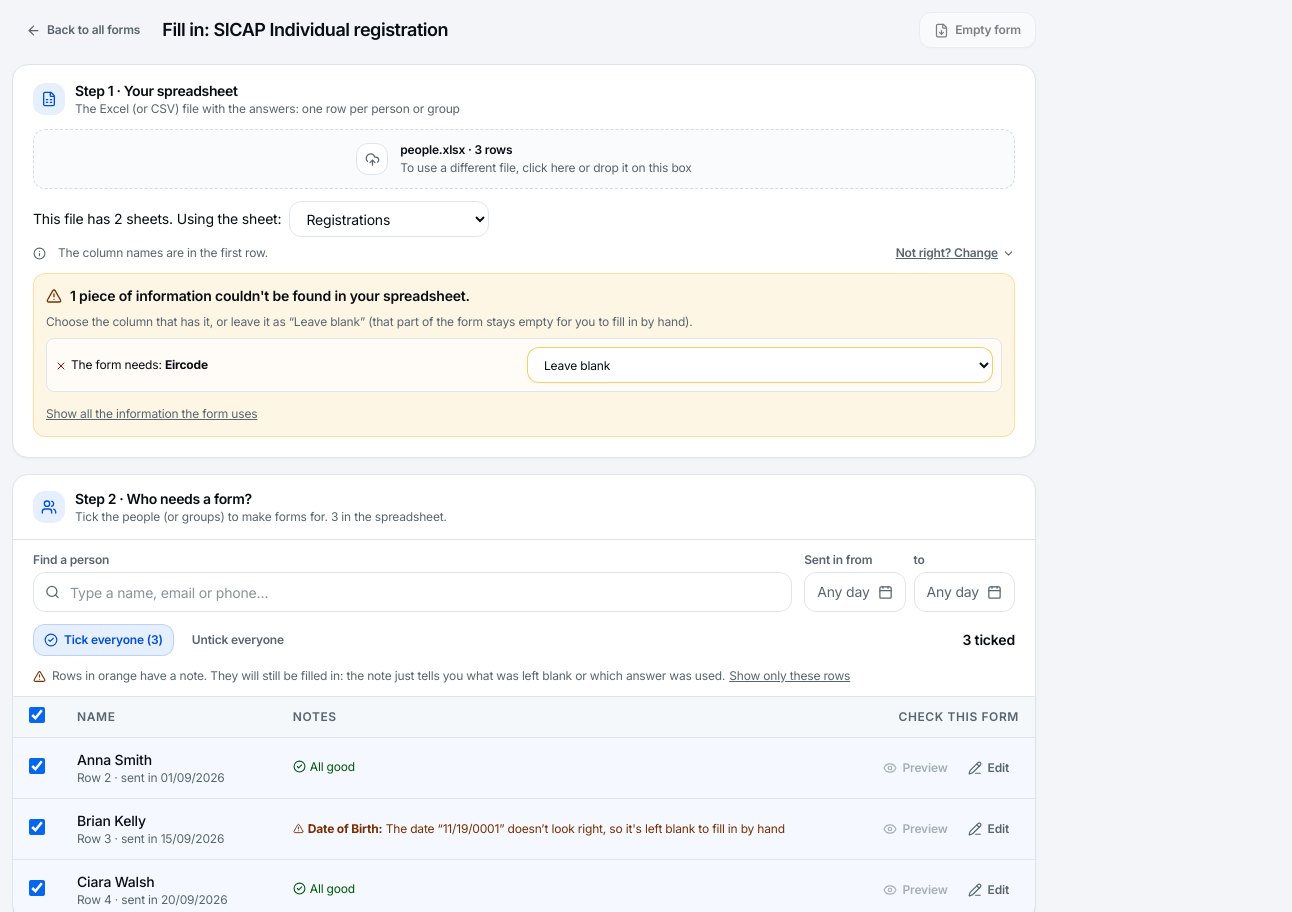
Test: FillView › uses the sheet that has the form columns, and lets another sheet be chosen
Expected: the text "Anna Smith" is shown, [77,751,152,768]
Select "Notes" in the dropdown labelled "sheet" at coordinates (389, 219), box [289,201,489,237]
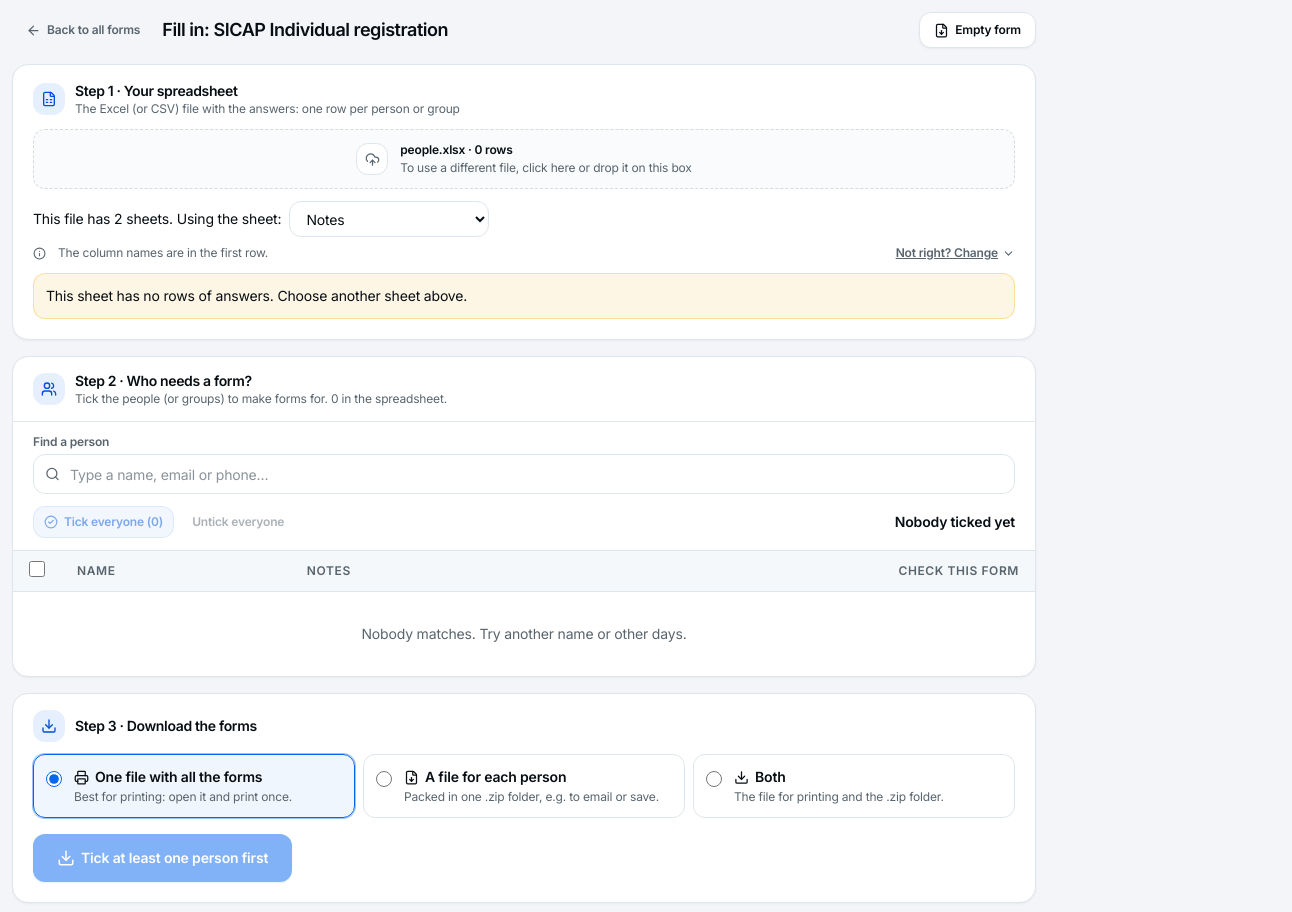
Result: the text "This sheet has no rows of answers" is shown at [46,287,467,304]
